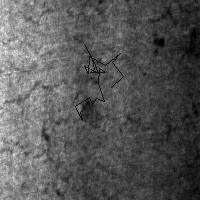crazing: (2, 54, 119, 172), (75, 44, 123, 120)
